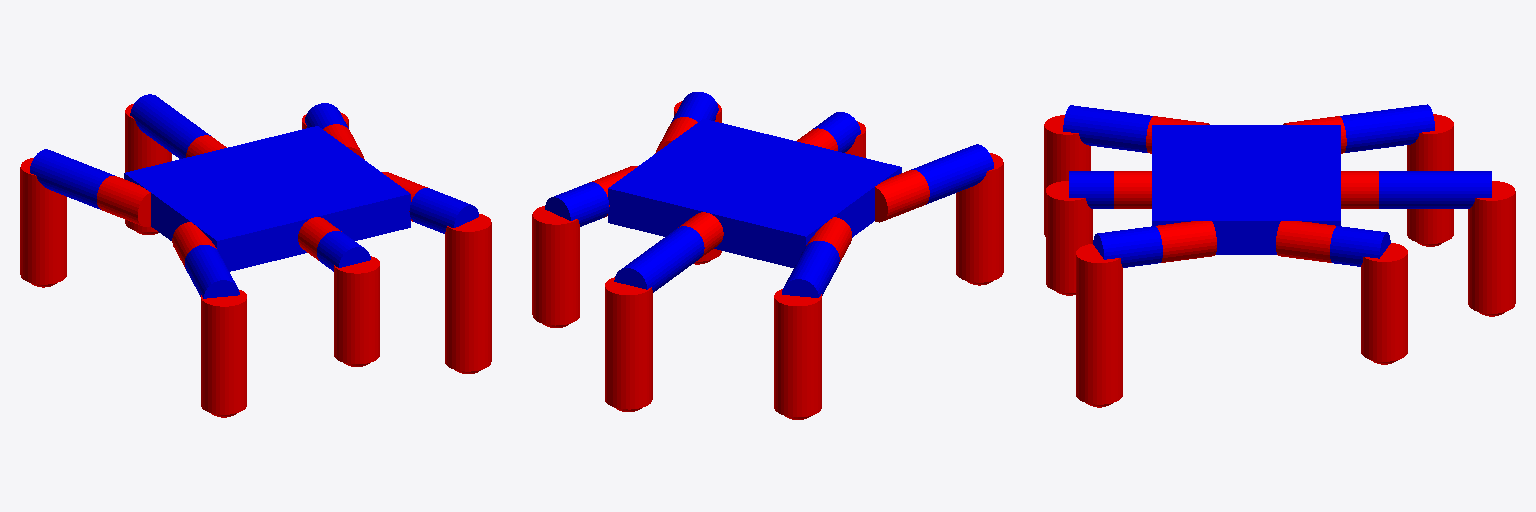
--- Facts derived from the render (not from the file) ---
3 views of the same robot in one strip: view 1: azimuth 30°, elevation 25°; view 2: azimuth 150°, elevation 25°; view 3: azimuth 270°, elevation 25° (orthographic).
Model pexod with 19 links and 18 joints (18 revolute), rooted at base_link, posed every joint at zero.
Visible links, largest first — view 1: base_link, leg_3_3, leg_5_3, leg_0_3, leg_4_3, leg_0_2, leg_1_2, leg_3_2, leg_0_1, leg_5_2, leg_1_3, leg_4_2 (+3 smaller); view 2: base_link, leg_1_3, leg_0_3, leg_2_3, leg_5_3, leg_1_2, leg_5_2, leg_0_2, leg_5_1, leg_2_2, leg_4_2, leg_3_2 (+4 smaller); view 3: base_link, leg_3_3, leg_1_3, leg_2_3, leg_1_2, leg_4_3, leg_0_3, leg_0_2, leg_5_2, leg_5_3, leg_3_2, leg_3_1 (+5 smaller).
Boxes of the visible links, <box> form: base_link: <box>124,126,410,271</box>; leg_3_3: <box>445,214,491,373</box>; leg_5_3: <box>201,290,246,417</box>; leg_0_3: <box>20,158,66,287</box>; leg_4_3: <box>334,256,379,366</box>; leg_0_2: <box>30,149,114,209</box>; leg_1_2: <box>130,94,210,158</box>; leg_3_2: <box>410,188,478,233</box>; leg_0_1: <box>97,176,150,226</box>; leg_5_2: <box>185,245,239,298</box>; leg_1_3: <box>125,104,171,234</box>; leg_4_2: <box>317,231,370,271</box>; base_link: <box>608,119,901,267</box>; leg_1_3: <box>605,277,652,411</box>; leg_0_3: <box>774,289,821,419</box>; leg_2_3: <box>532,206,579,327</box>; leg_5_3: <box>956,153,1003,285</box>; leg_1_2: <box>614,226,704,292</box>; leg_5_2: <box>911,144,993,204</box>; leg_0_2: <box>782,241,839,297</box>; leg_5_1: <box>875,170,929,222</box>; leg_2_2: <box>545,182,608,226</box>; leg_4_2: <box>813,112,860,152</box>; leg_3_2: <box>671,92,718,122</box>; base_link: <box>1152,125,1340,254</box>; leg_3_3: <box>1076,244,1122,407</box>; leg_1_3: <box>1468,181,1515,316</box>; leg_2_3: <box>1361,243,1407,364</box>; leg_1_2: <box>1379,171,1491,208</box>; leg_4_3: <box>1046,181,1092,295</box>; leg_0_3: <box>1407,114,1453,246</box>; leg_0_2: <box>1340,104,1434,152</box>; leg_5_2: <box>1063,105,1152,152</box>; leg_5_3: <box>1044,115,1090,236</box>; leg_3_2: <box>1093,226,1162,267</box>; leg_3_1: <box>1156,221,1216,262</box>.
Bounding box of the posed robot: 0.3734 × 0.4989 × 0.1979 m (x, y, z).
Geometry: primitives only (box / cylinder / sphere), no mesh files.

The robot description file, URDF, robot "pexod":
<?xml version="1.0" ?>
<!-- =================================================================================== -->
<!-- |    This document was autogenerated by xacro from pexod.xacro                    | -->
<!-- |    EDITING THIS FILE BY HAND IS NOT RECOMMENDED                                 | -->
<!-- =================================================================================== -->
<robot name="pexod" xmlns:xacro="http://www.ros.org/wiki/xacro">
  <!-- <xacro:include filename="$(find pexod_description)/urdf/pexod_control.xacro" /> -->
  <!-- MATERIALS -->
  <material name="Blue">
    <color rgba="0 0 1 1"/>
  </material>
  <material name="Red">
    <color rgba="1 0 0 1"/>
  </material>
  <material name="Green">
    <color rgba="0 1 0 1"/>
  </material>
  <material name="Yellow">
    <color rgba="1 1 0 1"/>
  </material>
  <material name="LightGrey">
    <color rgba="0.6 0.6 0.6 1.0"/>
  </material>
  <!-- END OF MATERIALS -->
  <!-- XACRO MACROS FOR VISUALS AND COLLISIONS -->
  <!-- END OF XACRO MACROS -->
  <!-- TORSO -->
  <link name="base_link">
    <visual>
      <origin rpy="0 0 0" xyz="0 0 0"/>
      <geometry>
        <box size="0.24 0.2 0.04"/>
      </geometry>
      <material name="Blue"/>
    </visual>
    <collision>
      <origin rpy="0 0 0" xyz="0 0 0"/>
      <geometry>
        <box size="0.24 0.2 0.04"/>
      </geometry>
    </collision>
    <inertial>
      <!-- CENTER OF MASS -->
      <origin rpy="0 0 0" xyz="0 0 0"/>
      <mass value="1.031"/>
      <!-- box inertia: 1/12*m(y^2+z^2), ... -->
      <inertia ixx="0.00357413333333" ixy="0" ixz="0" iyy="0.00508626666667" iyz="0" izz="0.00838546666667"/>
    </inertial>
  </link>
  <!-- XACRO MACRO FOR LEGS LINKS/JOINTS -->
  <!-- END OF LEG LINKS/JOINTS -->
  <joint name="body_leg_2" type="revolute">
    <parent link="base_link"/>
    <child link="leg_2_1"/>
    <limit effort="30.0" lower="-1.57079632679" upper="1.57079632679" velocity="7.0"/>
    <origin rpy="0 0 -0.3" xyz="0.11 0.04 0"/>
    <!-- <xacro:if value="${index == 5 or index == 4 or index == 3}">
                <axis xyz="0 0 1"/>
            </xacro:if>
            <xacro:if value="${index == 2 or index == 1 or index == 0}"> -->
    <axis xyz="0 0 1"/>
    <!-- </xacro:if> -->
    <dynamics damping="0.0"/>
  </joint>
  <link name="leg_2_1">
    <visual>
      <origin rpy="1.57079632679 0 0" xyz="0.01 0.03 0"/>
      <geometry>
        <cylinder length="0.06" radius="0.02"/>
      </geometry>
      <material name="Red"/>
    </visual>
    <collision>
      <origin rpy="1.57079632679 0 0" xyz="0.01 0.03 0"/>
      <geometry>
        <box size="0.02 0.02 0.06"/>
      </geometry>
    </collision>
    <inertial>
      <!-- CENTER OF MASS -->
      <origin rpy="1.57079632679 0 0" xyz="0.01 0.03 0"/>
      <mass value="0.02"/>
      <!-- box inertia: 1/12*m(y^2+z^2), ... -->
      <inertia ixx="6.66666666667e-06" ixy="0" ixz="0" iyy="6.66666666667e-06" iyz="0" izz="1.33333333333e-06"/>
    </inertial>
  </link>
  <joint name="leg_2_1_2" type="revolute">
    <parent link="leg_2_1"/>
    <child link="leg_2_2"/>
    <limit effort="30.0" lower="-0.78539816339" upper="0.78539816339" velocity="7.0"/>
    <origin rpy="0 0 0" xyz="0 0.06 0"/>
    <axis xyz="1 0 0"/>
    <dynamics damping="0.0"/>
  </joint>
  <link name="leg_2_2">
    <visual>
      <origin rpy="1.57079632679 0 0" xyz="0.01 0.0274838430137 0"/>
      <geometry>
        <cylinder length="0.0549676860274" radius="0.02"/>
      </geometry>
      <material name="Blue"/>
    </visual>
    <collision>
      <origin rpy="1.57079632679 0 0" xyz="0.01 0.0274838430137 0"/>
      <geometry>
        <box size="0.02 0.02 0.0549676860274"/>
      </geometry>
    </collision>
    <inertial>
      <!-- CENTER OF MASS -->
      <origin rpy="1.57079632679 0 0" xyz="0.01 0.0274838430137 0"/>
      <mass value="0.184"/>
      <!-- box inertia: 1/12*m(y^2+z^2), ... -->
      <inertia ixx="5.24621797772e-05" ixy="0" ixz="0" iyy="5.24621797772e-05" iyz="0" izz="1.22666666667e-05"/>
    </inertial>
  </link>
  <joint name="leg_2_2_3" type="revolute">
    <parent link="leg_2_2"/>
    <child link="leg_2_3"/>
    <limit effort="30.0" lower="-0.78539816339" upper="0.78539816339" velocity="7.0"/>
    <origin rpy="-1.57079632679 0 0" xyz="0 0.0549676860274 0"/>
    <axis xyz="-1 0 0"/>
    <dynamics damping="0.0"/>
  </joint>
  <link name="leg_2_3">
    <visual>
      <origin rpy="1.57079632679 0 0" xyz="0.0125 0.0583148886055 0"/>
      <geometry>
        <cylinder length="0.116629777211" radius="0.025"/>
      </geometry>
      <material name="Red"/>
    </visual>
    <visual>
      <origin rpy="1.57079632679 0 0" xyz="0.0125 0.104129777211 0"/>
      <geometry>
        <sphere radius="0.025"/>
      </geometry>
      <material name="Red"/>
    </visual>
    <collision>
      <origin rpy="1.57079632679 0 0" xyz="0.0125 0.0583148886055 0"/>
      <geometry>
        <box size="0.025 0.025 0.116629777211"/>
      </geometry>
    </collision>
    <collision>
      <origin rpy="1.57079632679 0 0" xyz="0.0125 0.104129777211 0"/>
      <geometry>
        <sphere radius="0.025"/>
      </geometry>
      <material name="Red"/>
    </collision>
    <inertial>
      <!-- CENTER OF MASS -->
      <origin rpy="1.57079632679 0 0" xyz="0.0125 0.0583148886055 0"/>
      <mass value="0.04"/>
      <!-- box inertia: 1/12*m(y^2+z^2), ... -->
      <inertia ixx="4.7425016441e-05" ixy="0" ixz="0" iyy="4.7425016441e-05" iyz="0" izz="4.16666666667e-06"/>
    </inertial>
  </link>
  <joint name="body_leg_3" type="revolute">
    <parent link="base_link"/>
    <child link="leg_3_1"/>
    <limit effort="30.0" lower="-1.57079632679" upper="1.57079632679" velocity="7.0"/>
    <origin rpy="0 0 0.3" xyz="0.11 -0.04 0"/>
    <!-- <xacro:if value="${index == 5 or index == 4 or index == 3}">
                <axis xyz="0 0 1"/>
            </xacro:if>
            <xacro:if value="${index == 2 or index == 1 or index == 0}"> -->
    <axis xyz="0 0 1"/>
    <!-- </xacro:if> -->
    <dynamics damping="0.0"/>
  </joint>
  <link name="leg_3_1">
    <visual>
      <origin rpy="1.57079632679 0 0" xyz="0.01 -0.03 0"/>
      <geometry>
        <cylinder length="0.06" radius="0.02"/>
      </geometry>
      <material name="Red"/>
    </visual>
    <collision>
      <origin rpy="1.57079632679 0 0" xyz="0.01 -0.03 0"/>
      <geometry>
        <box size="0.02 0.02 0.06"/>
      </geometry>
    </collision>
    <inertial>
      <!-- CENTER OF MASS -->
      <origin rpy="1.57079632679 0 0" xyz="0.01 -0.03 0"/>
      <mass value="0.02"/>
      <!-- box inertia: 1/12*m(y^2+z^2), ... -->
      <inertia ixx="6.66666666667e-06" ixy="0" ixz="0" iyy="6.66666666667e-06" iyz="0" izz="1.33333333333e-06"/>
    </inertial>
  </link>
  <joint name="leg_3_1_2" type="revolute">
    <parent link="leg_3_1"/>
    <child link="leg_3_2"/>
    <limit effort="30.0" lower="-0.78539816339" upper="0.78539816339" velocity="7.0"/>
    <origin rpy="0 0 0" xyz="0 -0.06 0"/>
    <axis xyz="-1 0 0"/>
    <dynamics damping="0.0"/>
  </joint>
  <link name="leg_3_2">
    <visual>
      <origin rpy="1.57079632679 0 0" xyz="0.01 -0.0324276716456 0"/>
      <geometry>
        <cylinder length="0.0648553432911" radius="0.02"/>
      </geometry>
      <material name="Blue"/>
    </visual>
    <collision>
      <origin rpy="1.57079632679 0 0" xyz="0.01 -0.0324276716456 0"/>
      <geometry>
        <box size="0.02 0.02 0.0648553432911"/>
      </geometry>
    </collision>
    <inertial>
      <!-- CENTER OF MASS -->
      <origin rpy="1.57079632679 0 0" xyz="0.01 -0.0324276716456 0"/>
      <mass value="0.184"/>
      <!-- box inertia: 1/12*m(y^2+z^2), ... -->
      <inertia ixx="7.06286384856e-05" ixy="0" ixz="0" iyy="7.06286384856e-05" iyz="0" izz="1.22666666667e-05"/>
    </inertial>
  </link>
  <joint name="leg_3_2_3" type="revolute">
    <parent link="leg_3_2"/>
    <child link="leg_3_3"/>
    <limit effort="30.0" lower="-0.78539816339" upper="0.78539816339" velocity="7.0"/>
    <origin rpy="1.57079632679 0 0" xyz="0 -0.0648553432911 0"/>
    <axis xyz="1 0 0"/>
    <dynamics damping="0.0"/>
  </joint>
  <link name="leg_3_3">
    <visual>
      <origin rpy="1.57079632679 0 0" xyz="0.0125 -0.082682799099 0"/>
      <geometry>
        <cylinder length="0.165365598198" radius="0.025"/>
      </geometry>
      <material name="Red"/>
    </visual>
    <visual>
      <origin rpy="1.57079632679 0 0" xyz="0.0125 -0.152865598198 0"/>
      <geometry>
        <sphere radius="0.025"/>
      </geometry>
      <material name="Red"/>
    </visual>
    <collision>
      <origin rpy="1.57079632679 0 0" xyz="0.0125 -0.082682799099 0"/>
      <geometry>
        <box size="0.025 0.025 0.165365598198"/>
      </geometry>
    </collision>
    <collision>
      <origin rpy="1.57079632679 0 0" xyz="0.0125 -0.152865598198 0"/>
      <geometry>
        <sphere radius="0.025"/>
      </geometry>
      <material name="Red"/>
    </collision>
    <inertial>
      <!-- CENTER OF MASS -->
      <origin rpy="1.57079632679 0 0" xyz="0.0125 -0.082682799099 0"/>
      <mass value="0.04"/>
      <!-- box inertia: 1/12*m(y^2+z^2), ... -->
      <inertia ixx="9.32359368913e-05" ixy="0" ixz="0" iyy="9.32359368913e-05" iyz="0" izz="4.16666666667e-06"/>
    </inertial>
  </link>
  <joint name="body_leg_0" type="revolute">
    <parent link="base_link"/>
    <child link="leg_0_1"/>
    <limit effort="30.0" lower="-1.57079632679" upper="1.57079632679" velocity="7.0"/>
    <origin rpy="0 0 0.3" xyz="-0.13 0.04 0"/>
    <!-- <xacro:if value="${index == 5 or index == 4 or index == 3}">
                <axis xyz="0 0 1"/>
            </xacro:if>
            <xacro:if value="${index == 2 or index == 1 or index == 0}"> -->
    <axis xyz="0 0 1"/>
    <!-- </xacro:if> -->
    <dynamics damping="0.0"/>
  </joint>
  <link name="leg_0_1">
    <visual>
      <origin rpy="1.57079632679 0 0" xyz="0.01 0.03 0"/>
      <geometry>
        <cylinder length="0.06" radius="0.02"/>
      </geometry>
      <material name="Red"/>
    </visual>
    <collision>
      <origin rpy="1.57079632679 0 0" xyz="0.01 0.03 0"/>
      <geometry>
        <box size="0.02 0.02 0.06"/>
      </geometry>
    </collision>
    <inertial>
      <!-- CENTER OF MASS -->
      <origin rpy="1.57079632679 0 0" xyz="0.01 0.03 0"/>
      <mass value="0.02"/>
      <!-- box inertia: 1/12*m(y^2+z^2), ... -->
      <inertia ixx="6.66666666667e-06" ixy="0" ixz="0" iyy="6.66666666667e-06" iyz="0" izz="1.33333333333e-06"/>
    </inertial>
  </link>
  <joint name="leg_0_1_2" type="revolute">
    <parent link="leg_0_1"/>
    <child link="leg_0_2"/>
    <limit effort="30.0" lower="-0.78539816339" upper="0.78539816339" velocity="7.0"/>
    <origin rpy="0 0 0" xyz="0 0.06 0"/>
    <axis xyz="1 0 0"/>
    <dynamics damping="0.0"/>
  </joint>
  <link name="leg_0_2">
    <visual>
      <origin rpy="1.57079632679 0 0" xyz="0.01 0.0491214377269 0"/>
      <geometry>
        <cylinder length="0.0982428754539" radius="0.02"/>
      </geometry>
      <material name="Blue"/>
    </visual>
    <collision>
      <origin rpy="1.57079632679 0 0" xyz="0.01 0.0491214377269 0"/>
      <geometry>
        <box size="0.02 0.02 0.0982428754539"/>
      </geometry>
    </collision>
    <inertial>
      <!-- CENTER OF MASS -->
      <origin rpy="1.57079632679 0 0" xyz="0.01 0.0491214377269 0"/>
      <mass value="0.184"/>
      <!-- box inertia: 1/12*m(y^2+z^2), ... -->
      <inertia ixx="0.000154125492854" ixy="0" ixz="0" iyy="0.000154125492854" iyz="0" izz="1.22666666667e-05"/>
    </inertial>
  </link>
  <joint name="leg_0_2_3" type="revolute">
    <parent link="leg_0_2"/>
    <child link="leg_0_3"/>
    <limit effort="30.0" lower="-0.78539816339" upper="0.78539816339" velocity="7.0"/>
    <origin rpy="-1.57079632679 0 0" xyz="0 0.0982428754539 0"/>
    <axis xyz="-1 0 0"/>
    <dynamics damping="0.0"/>
  </joint>
  <link name="leg_0_3">
    <visual>
      <origin rpy="1.57079632679 0 0" xyz="0.0125 0.064263669064 0"/>
      <geometry>
        <cylinder length="0.128527338128" radius="0.025"/>
      </geometry>
      <material name="Red"/>
    </visual>
    <visual>
      <origin rpy="1.57079632679 0 0" xyz="0.0125 0.116027338128 0"/>
      <geometry>
        <sphere radius="0.025"/>
      </geometry>
      <material name="Red"/>
    </visual>
    <collision>
      <origin rpy="1.57079632679 0 0" xyz="0.0125 0.064263669064 0"/>
      <geometry>
        <box size="0.025 0.025 0.128527338128"/>
      </geometry>
    </collision>
    <collision>
      <origin rpy="1.57079632679 0 0" xyz="0.0125 0.116027338128 0"/>
      <geometry>
        <sphere radius="0.025"/>
      </geometry>
      <material name="Red"/>
    </collision>
    <inertial>
      <!-- CENTER OF MASS -->
      <origin rpy="1.57079632679 0 0" xyz="0.0125 0.064263669064 0"/>
      <mass value="0.04"/>
      <!-- box inertia: 1/12*m(y^2+z^2), ... -->
      <inertia ixx="5.71475888209e-05" ixy="0" ixz="0" iyy="5.71475888209e-05" iyz="0" izz="4.16666666667e-06"/>
    </inertial>
  </link>
  <joint name="body_leg_5" type="revolute">
    <parent link="base_link"/>
    <child link="leg_5_1"/>
    <limit effort="30.0" lower="-1.57079632679" upper="1.57079632679" velocity="7.0"/>
    <origin rpy="0 0 -0.3" xyz="-0.13 -0.04 0"/>
    <!-- <xacro:if value="${index == 5 or index == 4 or index == 3}">
                <axis xyz="0 0 1"/>
            </xacro:if>
            <xacro:if value="${index == 2 or index == 1 or index == 0}"> -->
    <axis xyz="0 0 1"/>
    <!-- </xacro:if> -->
    <dynamics damping="0.0"/>
  </joint>
  <link name="leg_5_1">
    <visual>
      <origin rpy="1.57079632679 0 0" xyz="0.01 -0.03 0"/>
      <geometry>
        <cylinder length="0.06" radius="0.02"/>
      </geometry>
      <material name="Red"/>
    </visual>
    <collision>
      <origin rpy="1.57079632679 0 0" xyz="0.01 -0.03 0"/>
      <geometry>
        <box size="0.02 0.02 0.06"/>
      </geometry>
    </collision>
    <inertial>
      <!-- CENTER OF MASS -->
      <origin rpy="1.57079632679 0 0" xyz="0.01 -0.03 0"/>
      <mass value="0.02"/>
      <!-- box inertia: 1/12*m(y^2+z^2), ... -->
      <inertia ixx="6.66666666667e-06" ixy="0" ixz="0" iyy="6.66666666667e-06" iyz="0" izz="1.33333333333e-06"/>
    </inertial>
  </link>
  <joint name="leg_5_1_2" type="revolute">
    <parent link="leg_5_1"/>
    <child link="leg_5_2"/>
    <limit effort="30.0" lower="-0.78539816339" upper="0.78539816339" velocity="7.0"/>
    <origin rpy="0 0 0" xyz="0 -0.06 0"/>
    <axis xyz="-1 0 0"/>
    <dynamics damping="0.0"/>
  </joint>
  <link name="leg_5_2">
    <visual>
      <origin rpy="1.57079632679 0 0" xyz="0.01 -0.0460358635096 0"/>
      <geometry>
        <cylinder length="0.0920717270192" radius="0.02"/>
      </geometry>
      <material name="Blue"/>
    </visual>
    <collision>
      <origin rpy="1.57079632679 0 0" xyz="0.01 -0.0460358635096 0"/>
      <geometry>
        <box size="0.02 0.02 0.0920717270192"/>
      </geometry>
    </collision>
    <inertial>
      <!-- CENTER OF MASS -->
      <origin rpy="1.57079632679 0 0" xyz="0.01 -0.0460358635096 0"/>
      <mass value="0.184"/>
      <!-- box inertia: 1/12*m(y^2+z^2), ... -->
      <inertia ixx="0.000136117111383" ixy="0" ixz="0" iyy="0.000136117111383" iyz="0" izz="1.22666666667e-05"/>
    </inertial>
  </link>
  <joint name="leg_5_2_3" type="revolute">
    <parent link="leg_5_2"/>
    <child link="leg_5_3"/>
    <limit effort="30.0" lower="-0.78539816339" upper="0.78539816339" velocity="7.0"/>
    <origin rpy="1.57079632679 0 0" xyz="0 -0.0920717270192 0"/>
    <axis xyz="1 0 0"/>
    <dynamics damping="0.0"/>
  </joint>
  <link name="leg_5_3">
    <visual>
      <origin rpy="1.57079632679 0 0" xyz="0.0125 -0.064000824392 0"/>
      <geometry>
        <cylinder length="0.128001648784" radius="0.025"/>
      </geometry>
      <material name="Red"/>
    </visual>
    <visual>
      <origin rpy="1.57079632679 0 0" xyz="0.0125 -0.115501648784 0"/>
      <geometry>
        <sphere radius="0.025"/>
      </geometry>
      <material name="Red"/>
    </visual>
    <collision>
      <origin rpy="1.57079632679 0 0" xyz="0.0125 -0.064000824392 0"/>
      <geometry>
        <box size="0.025 0.025 0.128001648784"/>
      </geometry>
    </collision>
    <collision>
      <origin rpy="1.57079632679 0 0" xyz="0.0125 -0.115501648784 0"/>
      <geometry>
        <sphere radius="0.025"/>
      </geometry>
      <material name="Red"/>
    </collision>
    <inertial>
      <!-- CENTER OF MASS -->
      <origin rpy="1.57079632679 0 0" xyz="0.0125 -0.064000824392 0"/>
      <mass value="0.04"/>
      <!-- box inertia: 1/12*m(y^2+z^2), ... -->
      <inertia ixx="5.66980736381e-05" ixy="0" ixz="0" iyy="5.66980736381e-05" iyz="0" izz="4.16666666667e-06"/>
    </inertial>
  </link>
  <joint name="body_leg_1" type="revolute">
    <parent link="base_link"/>
    <child link="leg_1_1"/>
    <limit effort="30.0" lower="-1.57079632679" upper="1.57079632679" velocity="7.0"/>
    <origin rpy="0 0 0" xyz="-0.01 0.08 0"/>
    <!-- <xacro:if value="${index == 5 or index == 4 or index == 3}">
                <axis xyz="0 0 1"/>
            </xacro:if>
            <xacro:if value="${index == 2 or index == 1 or index == 0}"> -->
    <axis xyz="0 0 1"/>
    <!-- </xacro:if> -->
    <dynamics damping="0.0"/>
  </joint>
  <link name="leg_1_1">
    <visual>
      <origin rpy="1.57079632679 0 0" xyz="0.01 0.03 0"/>
      <geometry>
        <cylinder length="0.06" radius="0.02"/>
      </geometry>
      <material name="Red"/>
    </visual>
    <collision>
      <origin rpy="1.57079632679 0 0" xyz="0.01 0.03 0"/>
      <geometry>
        <box size="0.02 0.02 0.06"/>
      </geometry>
    </collision>
    <inertial>
      <!-- CENTER OF MASS -->
      <origin rpy="1.57079632679 0 0" xyz="0.01 0.03 0"/>
      <mass value="0.02"/>
      <!-- box inertia: 1/12*m(y^2+z^2), ... -->
      <inertia ixx="6.66666666667e-06" ixy="0" ixz="0" iyy="6.66666666667e-06" iyz="0" izz="1.33333333333e-06"/>
    </inertial>
  </link>
  <joint name="leg_1_1_2" type="revolute">
    <parent link="leg_1_1"/>
    <child link="leg_1_2"/>
    <limit effort="30.0" lower="-0.78539816339" upper="0.78539816339" velocity="7.0"/>
    <origin rpy="0 0 0" xyz="0 0.06 0"/>
    <axis xyz="1 0 0"/>
    <dynamics damping="0.0"/>
  </joint>
  <link name="leg_1_2">
    <visual>
      <origin rpy="1.57079632679 0 0" xyz="0.01 0.0599999890755 0"/>
      <geometry>
        <cylinder length="0.119999978151" radius="0.02"/>
      </geometry>
      <material name="Blue"/>
    </visual>
    <collision>
      <origin rpy="1.57079632679 0 0" xyz="0.01 0.0599999890755 0"/>
      <geometry>
        <box size="0.02 0.02 0.119999978151"/>
      </geometry>
    </collision>
    <inertial>
      <!-- CENTER OF MASS -->
      <origin rpy="1.57079632679 0 0" xyz="0.01 0.0599999890755 0"/>
      <mass value="0.184"/>
      <!-- box inertia: 1/12*m(y^2+z^2), ... -->
      <inertia ixx="0.000226933252929" ixy="0" ixz="0" iyy="0.000226933252929" iyz="0" izz="1.22666666667e-05"/>
    </inertial>
  </link>
  <joint name="leg_1_2_3" type="revolute">
    <parent link="leg_1_2"/>
    <child link="leg_1_3"/>
    <limit effort="30.0" lower="-0.78539816339" upper="0.78539816339" velocity="7.0"/>
    <origin rpy="-1.57079632679 0 0" xyz="0 0.119999978151 0"/>
    <axis xyz="-1 0 0"/>
    <dynamics damping="0.0"/>
  </joint>
  <link name="leg_1_3">
    <visual>
      <origin rpy="1.57079632679 0 0" xyz="0.0125 0.0660249401565 0"/>
      <geometry>
        <cylinder length="0.132049880313" radius="0.025"/>
      </geometry>
      <material name="Red"/>
    </visual>
    <visual>
      <origin rpy="1.57079632679 0 0" xyz="0.0125 0.119549880313 0"/>
      <geometry>
        <sphere radius="0.025"/>
      </geometry>
      <material name="Red"/>
    </visual>
    <collision>
      <origin rpy="1.57079632679 0 0" xyz="0.0125 0.0660249401565 0"/>
      <geometry>
        <box size="0.025 0.025 0.132049880313"/>
      </geometry>
    </collision>
    <collision>
      <origin rpy="1.57079632679 0 0" xyz="0.0125 0.119549880313 0"/>
      <geometry>
        <sphere radius="0.025"/>
      </geometry>
      <material name="Red"/>
    </collision>
    <inertial>
      <!-- CENTER OF MASS -->
      <origin rpy="1.57079632679 0 0" xyz="0.0125 0.0660249401565 0"/>
      <mass value="0.04"/>
      <!-- box inertia: 1/12*m(y^2+z^2), ... -->
      <inertia ixx="6.02072363023e-05" ixy="0" ixz="0" iyy="6.02072363023e-05" iyz="0" izz="4.16666666667e-06"/>
    </inertial>
  </link>
  <joint name="body_leg_4" type="revolute">
    <parent link="base_link"/>
    <child link="leg_4_1"/>
    <limit effort="30.0" lower="-1.57079632679" upper="1.57079632679" velocity="7.0"/>
    <origin rpy="0 0 0" xyz="-0.01 -0.08 0"/>
    <!-- <xacro:if value="${index == 5 or index == 4 or index == 3}">
                <axis xyz="0 0 1"/>
            </xacro:if>
            <xacro:if value="${index == 2 or index == 1 or index == 0}"> -->
    <axis xyz="0 0 1"/>
    <!-- </xacro:if> -->
    <dynamics damping="0.0"/>
  </joint>
  <link name="leg_4_1">
    <visual>
      <origin rpy="1.57079632679 0 0" xyz="0.01 -0.03 0"/>
      <geometry>
        <cylinder length="0.06" radius="0.02"/>
      </geometry>
      <material name="Red"/>
    </visual>
    <collision>
      <origin rpy="1.57079632679 0 0" xyz="0.01 -0.03 0"/>
      <geometry>
        <box size="0.02 0.02 0.06"/>
      </geometry>
    </collision>
    <inertial>
      <!-- CENTER OF MASS -->
      <origin rpy="1.57079632679 0 0" xyz="0.01 -0.03 0"/>
      <mass value="0.02"/>
      <!-- box inertia: 1/12*m(y^2+z^2), ... -->
      <inertia ixx="6.66666666667e-06" ixy="0" ixz="0" iyy="6.66666666667e-06" iyz="0" izz="1.33333333333e-06"/>
    </inertial>
  </link>
  <joint name="leg_4_1_2" type="revolute">
    <parent link="leg_4_1"/>
    <child link="leg_4_2"/>
    <limit effort="30.0" lower="-0.78539816339" upper="0.78539816339" velocity="7.0"/>
    <origin rpy="0 0 0" xyz="0 -0.06 0"/>
    <axis xyz="-1 0 0"/>
    <dynamics damping="0.0"/>
  </joint>
  <link name="leg_4_2">
    <visual>
      <origin rpy="1.57079632679 0 0" xyz="0.01 -0.0237770345236 0"/>
      <geometry>
        <cylinder length="0.0475540690472" radius="0.02"/>
      </geometry>
      <material name="Blue"/>
    </visual>
    <collision>
      <origin rpy="1.57079632679 0 0" xyz="0.01 -0.0237770345236 0"/>
      <geometry>
        <box size="0.02 0.02 0.0475540690472"/>
      </geometry>
    </collision>
    <inertial>
      <!-- CENTER OF MASS -->
      <origin rpy="1.57079632679 0 0" xyz="0.01 -0.0237770345236 0"/>
      <mass value="0.184"/>
      <!-- box inertia: 1/12*m(y^2+z^2), ... -->
      <inertia ixx="4.08079720718e-05" ixy="0" ixz="0" iyy="4.08079720718e-05" iyz="0" izz="1.22666666667e-05"/>
    </inertial>
  </link>
  <joint name="leg_4_2_3" type="revolute">
    <parent link="leg_4_2"/>
    <child link="leg_4_3"/>
    <limit effort="30.0" lower="-0.78539816339" upper="0.78539816339" velocity="7.0"/>
    <origin rpy="1.57079632679 0 0" xyz="0 -0.0475540690472 0"/>
    <axis xyz="1 0 0"/>
    <dynamics damping="0.0"/>
  </joint>
  <link name="leg_4_3">
    <visual>
      <origin rpy="1.57079632679 0 0" xyz="0.0125 -0.053804170151 0"/>
      <geometry>
        <cylinder length="0.107608340302" radius="0.025"/>
      </geometry>
      <material name="Red"/>
    </visual>
    <visual>
      <origin rpy="1.57079632679 0 0" xyz="0.0125 -0.095108340302 0"/>
      <geometry>
        <sphere radius="0.025"/>
      </geometry>
      <material name="Red"/>
    </visual>
    <collision>
      <origin rpy="1.57079632679 0 0" xyz="0.0125 -0.053804170151 0"/>
      <geometry>
        <box size="0.025 0.025 0.107608340302"/>
      </geometry>
    </collision>
    <collision>
      <origin rpy="1.57079632679 0 0" xyz="0.0125 -0.095108340302 0"/>
      <geometry>
        <sphere radius="0.025"/>
      </geometry>
      <material name="Red"/>
    </collision>
    <inertial>
      <!-- CENTER OF MASS -->
      <origin rpy="1.57079632679 0 0" xyz="0.0125 -0.053804170151 0"/>
      <mass value="0.04"/>
      <!-- box inertia: 1/12*m(y^2+z^2), ... -->
      <inertia ixx="4.06818496752e-05" ixy="0" ixz="0" iyy="4.06818496752e-05" iyz="0" izz="4.16666666667e-06"/>
    </inertial>
  </link>
  <!-- END OF LEG LINKS/JOINTS -->
</robot>
